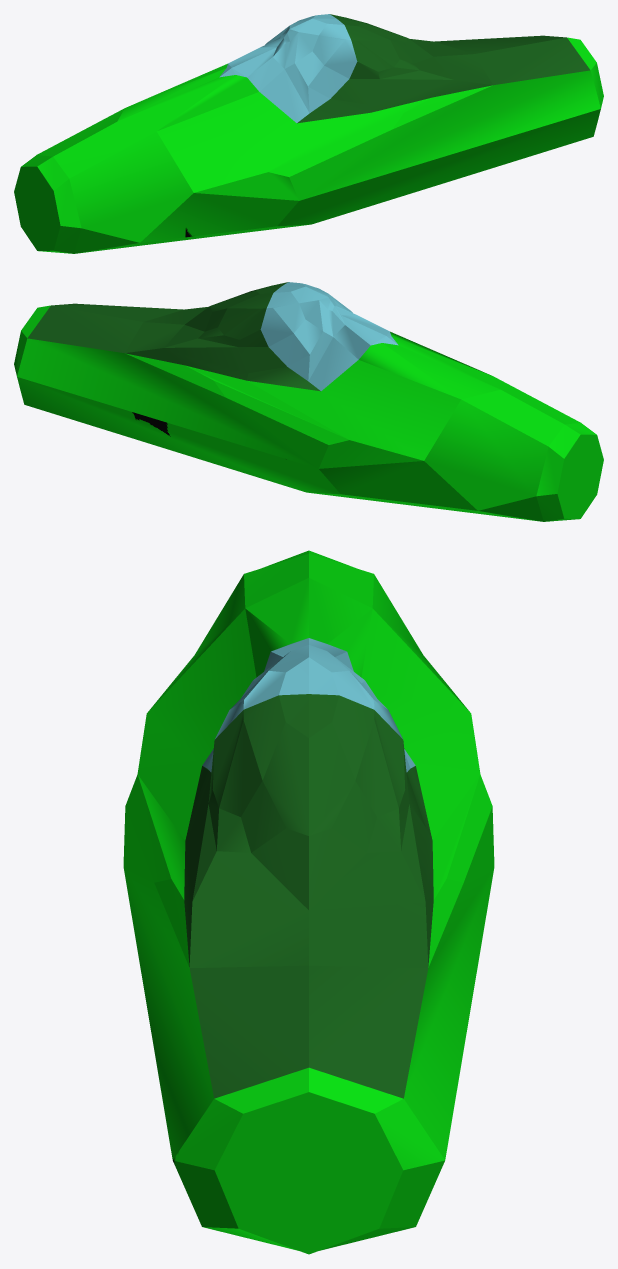
File: Corp_1.FBX
The picture shows the model from 3 angles, top to bottom: view 1: azimuth 30°, elevation 25°; view 2: azimuth 150°, elevation 25°; view 3: azimuth 270°, elevation 25°; orthographic projection. The views are drawn at different scales.
Visible parts, largest first — view 1: Box002; view 2: Box002; view 3: Box002.
Boxes of the visible parts, x1=… form: Box002: x1=14, y1=14, x2=603, y2=253; Box002: x1=14, y1=282, x2=603, y2=521; Box002: x1=123, y1=550, x2=494, y2=1254.
Bounding box in the file's own units: 122 × 38.65 × 36.11.
